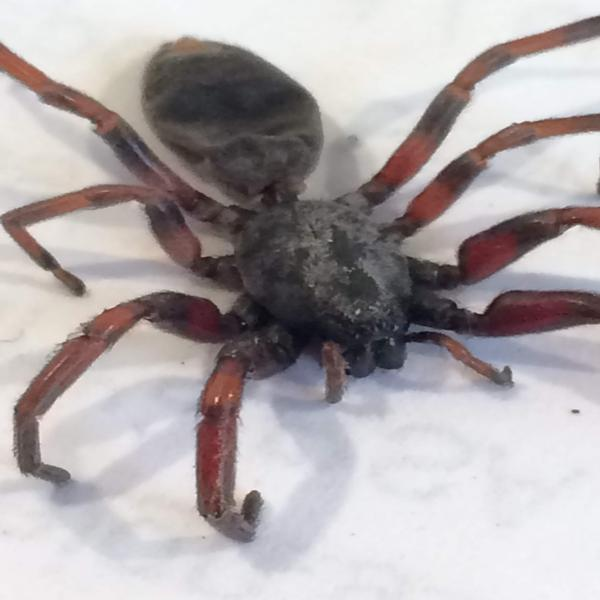White-Tailed_Spider: (3, 16, 600, 536)
